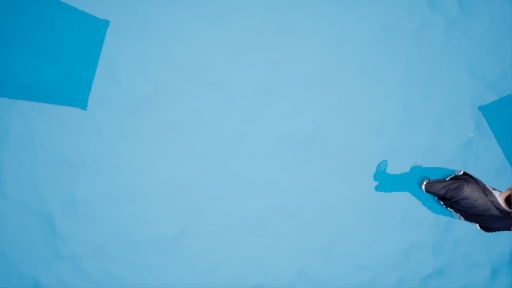person: (375, 154, 512, 236)
